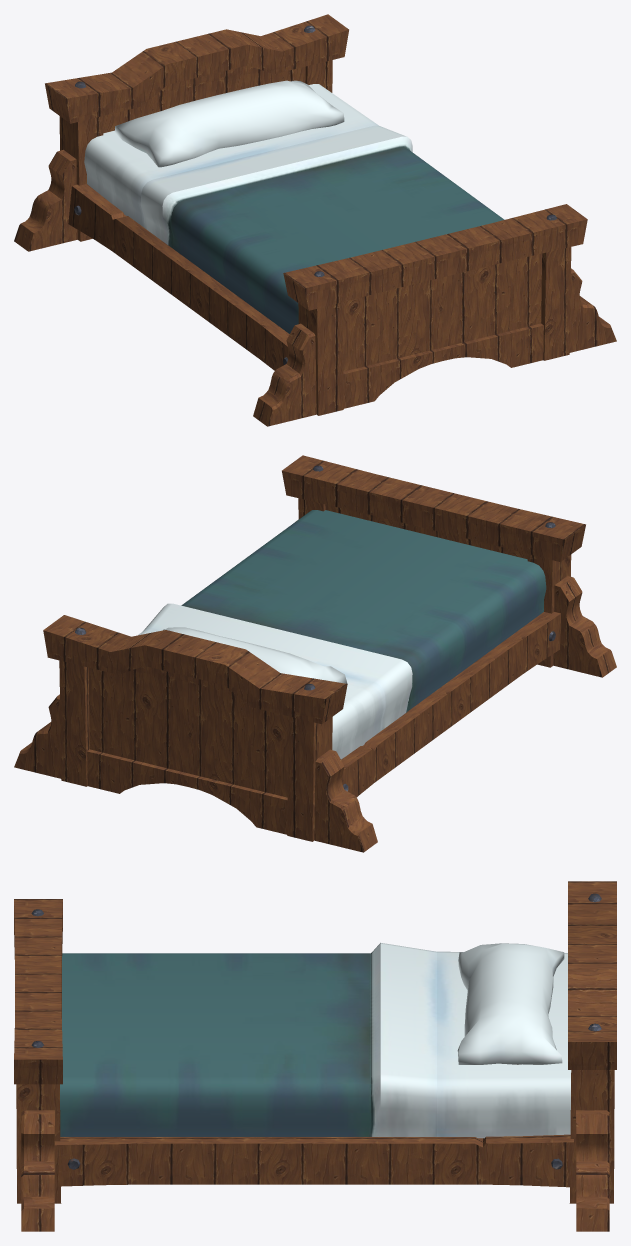
Rendered from furn_bed_1.glb.
The picture shows the model from 3 angles, top to bottom: view 1: azimuth 30°, elevation 25°; view 2: azimuth 150°, elevation 25°; view 3: azimuth 270°, elevation 25°; orthographic projection. The views are drawn at different scales.
Parts seen in each view (by area): view 1: model; view 2: model; view 3: model.
Part boxes in pixels (<box>): model: <box>14,14,616,426</box>; model: <box>14,455,616,852</box>; model: <box>14,881,616,1231</box>.
Bounding box in the file's own units: 1.88 × 0.8051 × 2.41.
3 materials, 3 textured.
